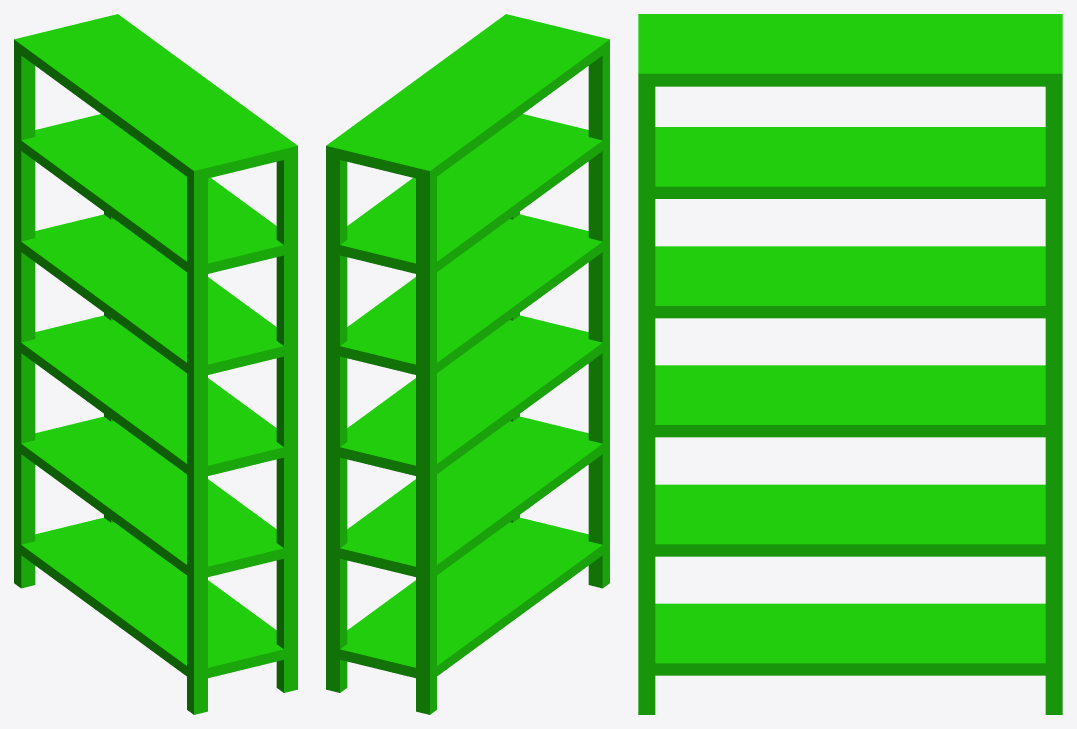
Rendered from Shelf_02_A.fbx.
3 views of the same model, side by side, from view 1: azimuth 30°, elevation 25°; view 2: azimuth 150°, elevation 25°; view 3: azimuth 270°, elevation 25° (orthographic). The views are drawn at different scales.
Visible parts, largest first — view 1: Shelf_02_A; view 2: Shelf_02_A; view 3: Shelf_02_A.
Part boxes in pixels (x1,y1,x2,y2): Shelf_02_A: (14,14,297,714); Shelf_02_A: (326,14,609,714); Shelf_02_A: (638,14,1062,714).
Size of the model in its own units: 45.72 by 229 by 137.
